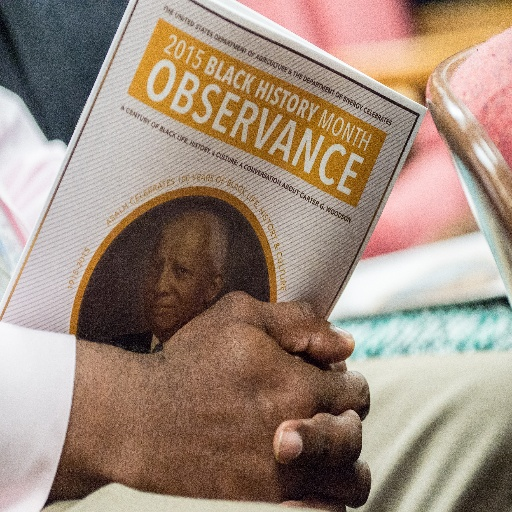hand: (131, 282, 374, 511), (271, 359, 364, 511)
